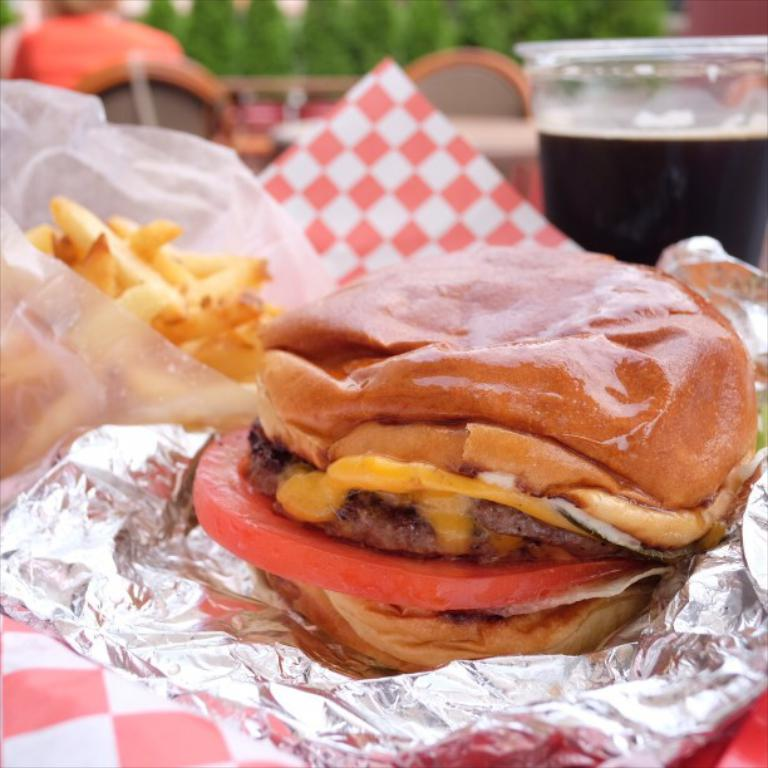Hamburger: (195, 249, 762, 672)
